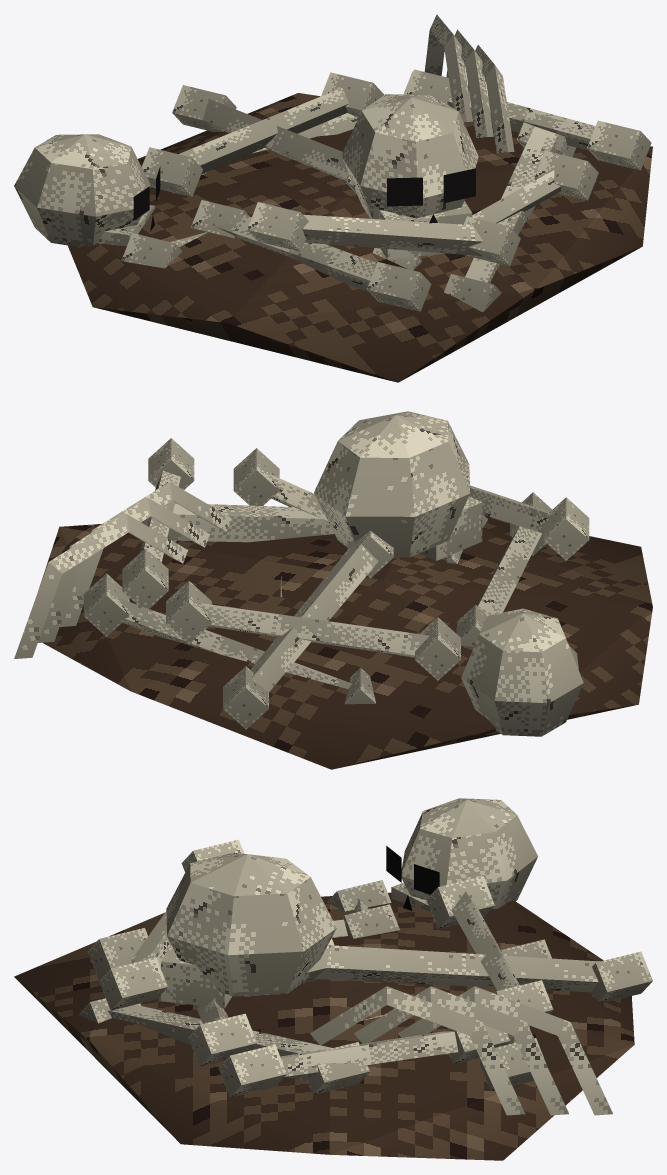
Rendered from bone_pile.glb.
3 renders of one model, top to bottom at view 1: azimuth 30°, elevation 25°; view 2: azimuth 150°, elevation 25°; view 3: azimuth 270°, elevation 25°, orthographic. The views are drawn at different scales.
Visible parts, largest first — view 1: bone_pile; view 2: bone_pile; view 3: bone_pile.
Boxes of the visible parts, x1,y1,x2,y2 form: bone_pile: [14, 14, 652, 382]; bone_pile: [14, 411, 652, 769]; bone_pile: [14, 798, 652, 1160].
Size of the model in its own units: 1.25 by 0.3745 by 1.16.
3 materials, 2 textured.
